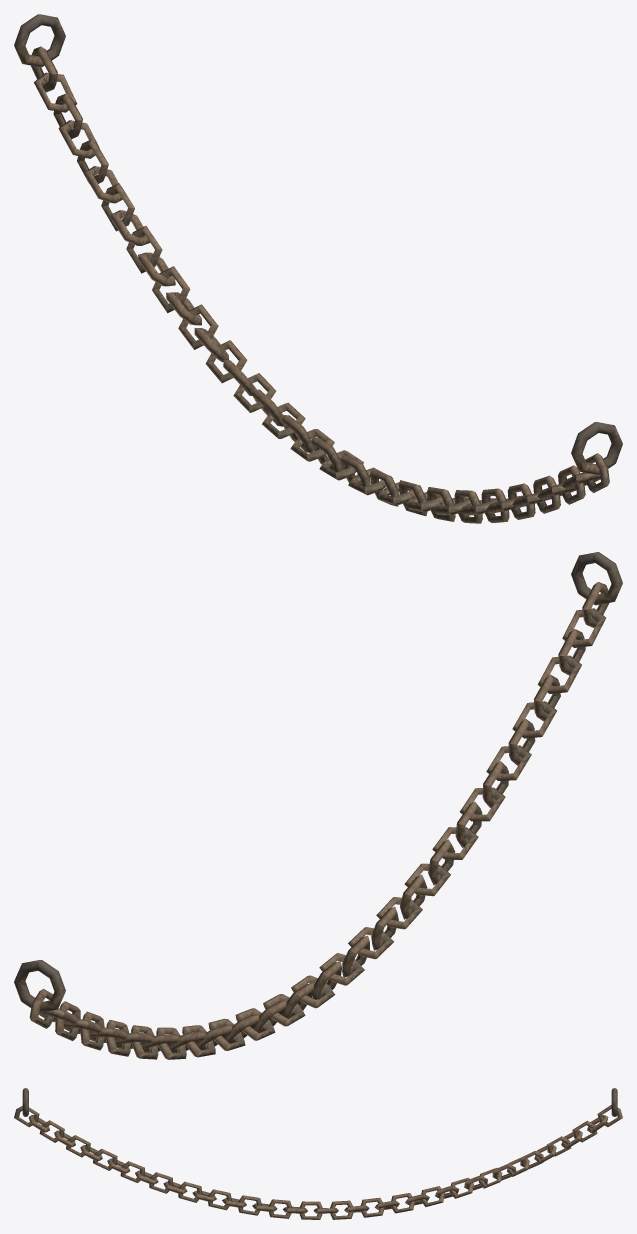
3 views of the same model, one above another, from view 1: azimuth 30°, elevation 25°; view 2: azimuth 150°, elevation 25°; view 3: azimuth 270°, elevation 25° (orthographic). The views are drawn at different scales.
Visible parts, largest first — view 1: SM_DR_CeilingChain_Joint_6m_LOD0; view 2: SM_DR_CeilingChain_Joint_6m_LOD0; view 3: SM_DR_CeilingChain_Joint_6m_LOD0.
Boxes of the visible parts, <box> form: SM_DR_CeilingChain_Joint_6m_LOD0: <box>14,14,622,523</box>; SM_DR_CeilingChain_Joint_6m_LOD0: <box>14,552,622,1059</box>; SM_DR_CeilingChain_Joint_6m_LOD0: <box>14,1088,622,1219</box>.
Size of the model in its own units: 0.3155 by 1.46 by 6.21.
1 material, 1 textured.
